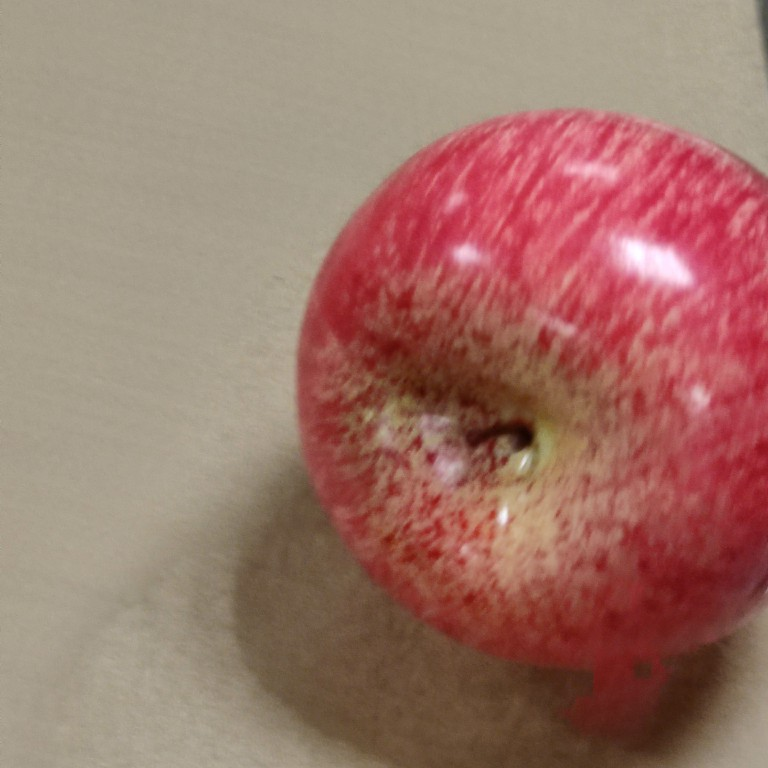fruit_apple: (283, 100, 768, 687)
